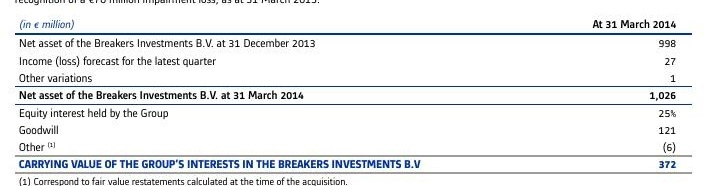table: (0, 0, 711, 186)
